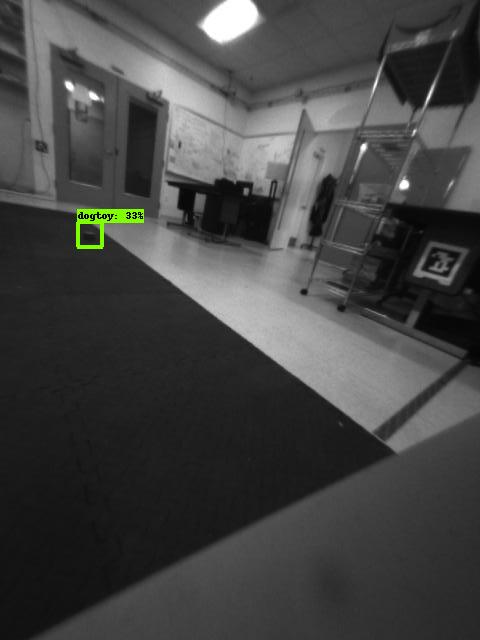dogtoy: (75, 226, 103, 246)
